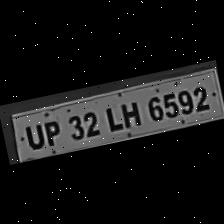2: (78, 106, 103, 140), (188, 82, 212, 114)
3: (60, 110, 85, 144)
5: (158, 88, 182, 120)
6: (140, 92, 164, 124)
9: (173, 84, 197, 117)
H: (114, 96, 144, 131)
L: (97, 100, 122, 134)
P: (36, 116, 64, 149)
U: (18, 120, 44, 152)
